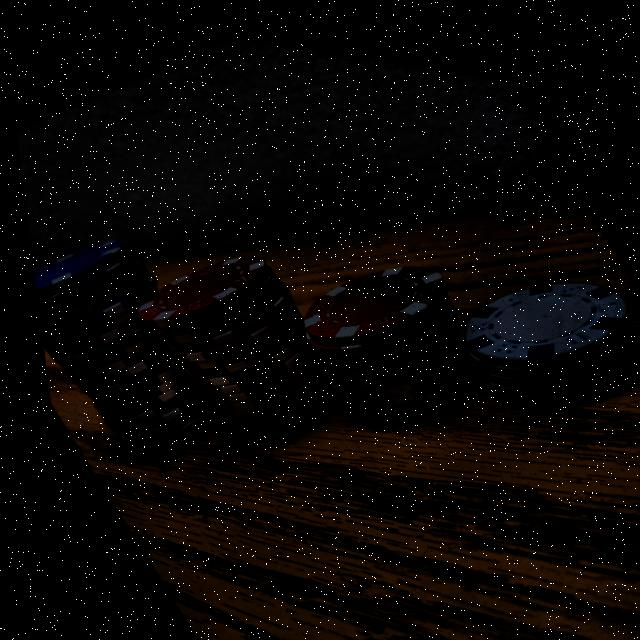Chip: (86, 176, 375, 490), (19, 194, 262, 511), (249, 191, 525, 469), (406, 198, 640, 451)
